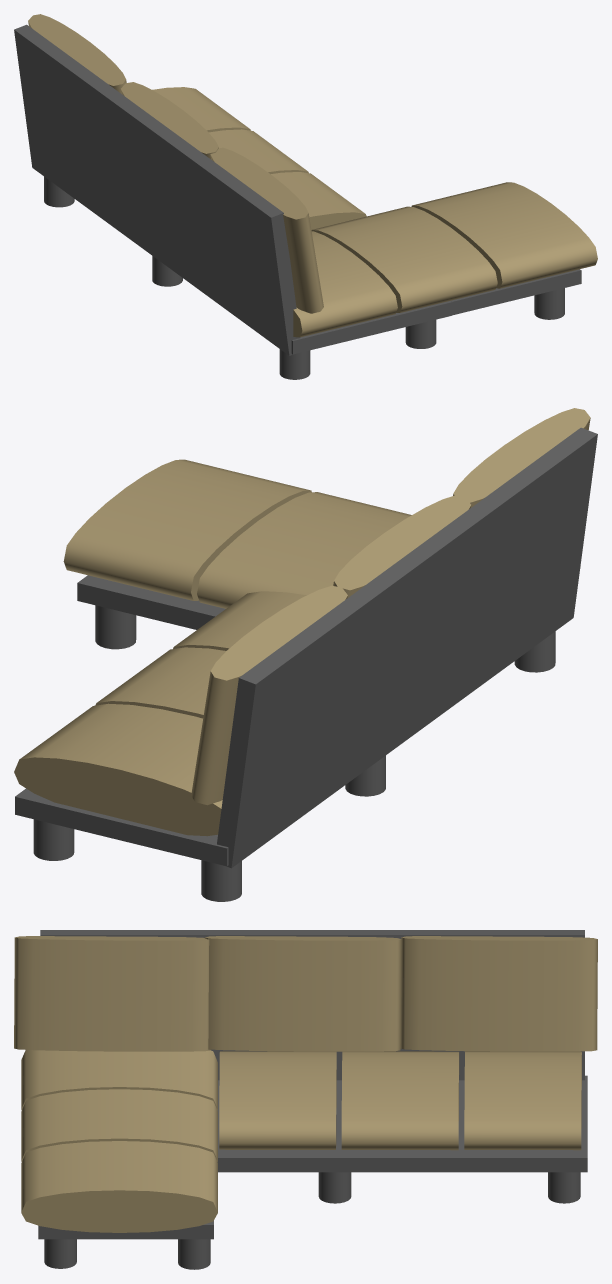
Rendered from lounge.fbx.
3 renders of one model, top to bottom at view 1: azimuth 30°, elevation 25°; view 2: azimuth 150°, elevation 25°; view 3: azimuth 270°, elevation 25°, orthographic. The views are drawn at different scales.
Parts seen in each view (by area): view 1: pasted__pCube1 (×2), pasted__pCylinder1 (×2), pasted__pasted__pCylinder1 (×3), pCylinder1, pasted__pasted__pasted__pCylinder1 (×2), pCube1, pasted__pasted__pasted__pasted__pCylinder1, pasted__pasted__pCylinder2 (×2), pasted__pCylinder2, pCylinder2, pasted__pasted__pasted__pCylinder2; view 2: pasted__pCube1 (×2), pasted__pasted__pasted__pCylinder1 (×2), pCylinder1, pasted__pCylinder1 (×2), pasted__pasted__pCylinder1 (×2), pasted__pasted__pasted__pasted__pCylinder1, pCube1, pasted__pCylinder2 (×2), pasted__pasted__pCylinder2 (×2), pasted__pasted__pasted__pCylinder2; view 3: pasted__pasted__pCylinder1 (×3), pasted__pasted__pasted__pCylinder1 (×2), pasted__pasted__pasted__pasted__pCylinder1, pasted__pCylinder1 (×2), pCylinder1, pCube1, pasted__pCube1 (×2), pasted__pCylinder2 (×2), pasted__pasted__pCylinder2 (×2).
Part boxes in pixels (x1=…): pasted__pCube1 (×2): x1=14, y1=24, x2=581, y2=355; pasted__pCylinder1 (×2): x1=271, y1=172, x2=497, y2=312; pasted__pasted__pCylinder1 (×3): x1=209, y1=129, x2=397, y2=337; pCylinder1: x1=411, y1=182, x2=597, y2=288; pasted__pasted__pasted__pCylinder1 (×2): x1=121, y1=82, x2=250, y2=159; pCube1: x1=291, y1=301, x2=452, y2=354; pasted__pasted__pasted__pasted__pCylinder1: x1=28, y1=14, x2=126, y2=93; pasted__pasted__pCylinder2 (×2): x1=152, y1=256, x2=564, y2=319; pasted__pCylinder2: x1=279, y1=349, x2=310, y2=379; pCylinder2: x1=405, y1=319, x2=436, y2=348; pasted__pasted__pasted__pCylinder2: x1=44, y1=176, x2=74, y2=207; pasted__pCube1 (×2): x1=77, y1=427, x2=597, y2=868; pasted__pasted__pasted__pCylinder1 (×2): x1=14, y1=495, x2=471, y2=836; pCylinder1: x1=63, y1=459, x2=311, y2=600; pasted__pCylinder1 (×2): x1=173, y1=492, x2=411, y2=650; pasted__pasted__pCylinder1 (×2): x1=95, y1=408, x2=590, y2=718; pasted__pasted__pasted__pasted__pCylinder1: x1=191, y1=585, x2=347, y2=805; pCube1: x1=15, y1=788, x2=228, y2=866; pasted__pCylinder2 (×2): x1=95, y1=605, x2=555, y2=672; pasted__pasted__pCylinder2 (×2): x1=33, y1=755, x2=385, y2=860; pasted__pasted__pasted__pCylinder2: x1=201, y1=860, x2=241, y2=901; pasted__pasted__pCylinder1 (×3): x1=14, y1=936, x2=459, y2=1150; pasted__pasted__pasted__pCylinder1 (×2): x1=204, y1=936, x2=581, y2=1150; pasted__pasted__pasted__pasted__pCylinder1: x1=400, y1=936, x2=597, y2=1051; pasted__pCylinder1 (×2): x1=21, y1=1051, x2=336, y2=1161; pCylinder1: x1=21, y1=1141, x2=217, y2=1232; pCube1: x1=217, y1=1075, x2=587, y2=1172; pasted__pCube1 (×2): x1=38, y1=930, x2=584, y2=1239; pasted__pCylinder2 (×2): x1=178, y1=1172, x2=351, y2=1269; pasted__pasted__pCylinder2 (×2): x1=44, y1=1172, x2=580, y2=1268.
Bounding box in the file's own units: 6.65 × 3.61 × 9.99.
